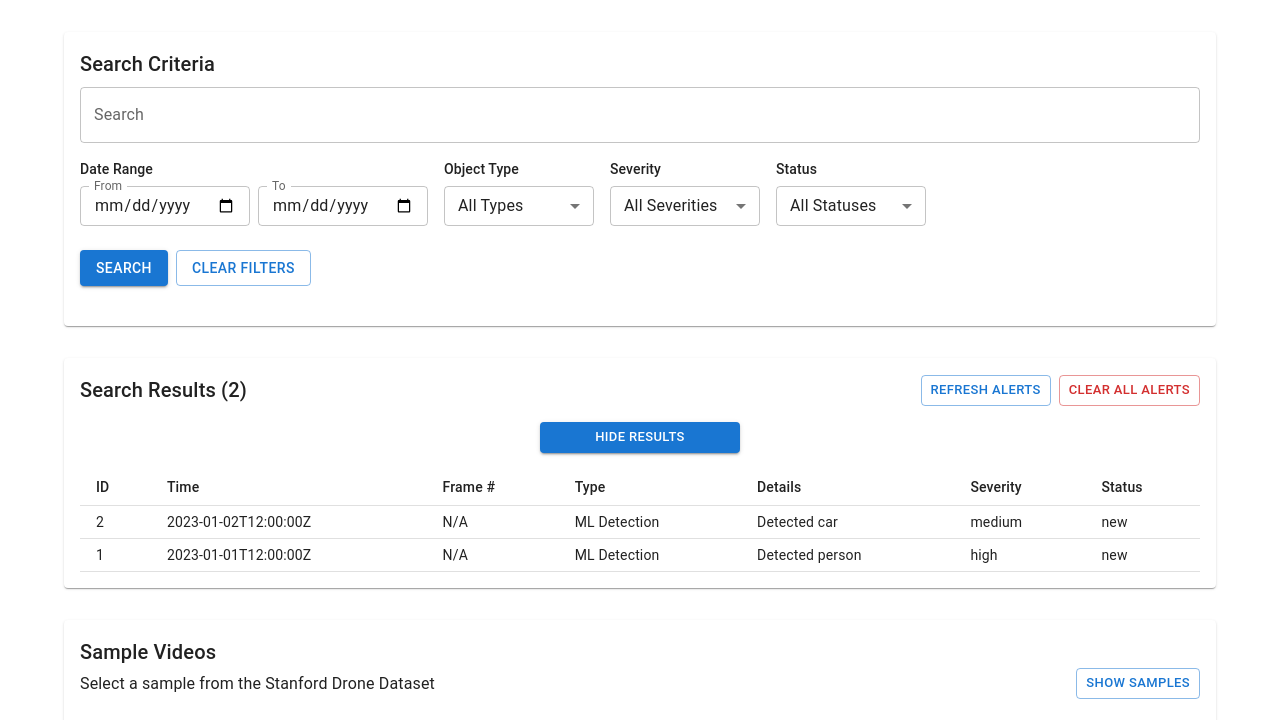
MainPage › clears all alerts
This screenshot has width=1280, height=720.
# Click clear all button - wrap in act since it triggers fetch and state updates
Click the button "Clear All Alerts" at (1129, 390), box x1=1059 y1=375 x2=1200 y2=406
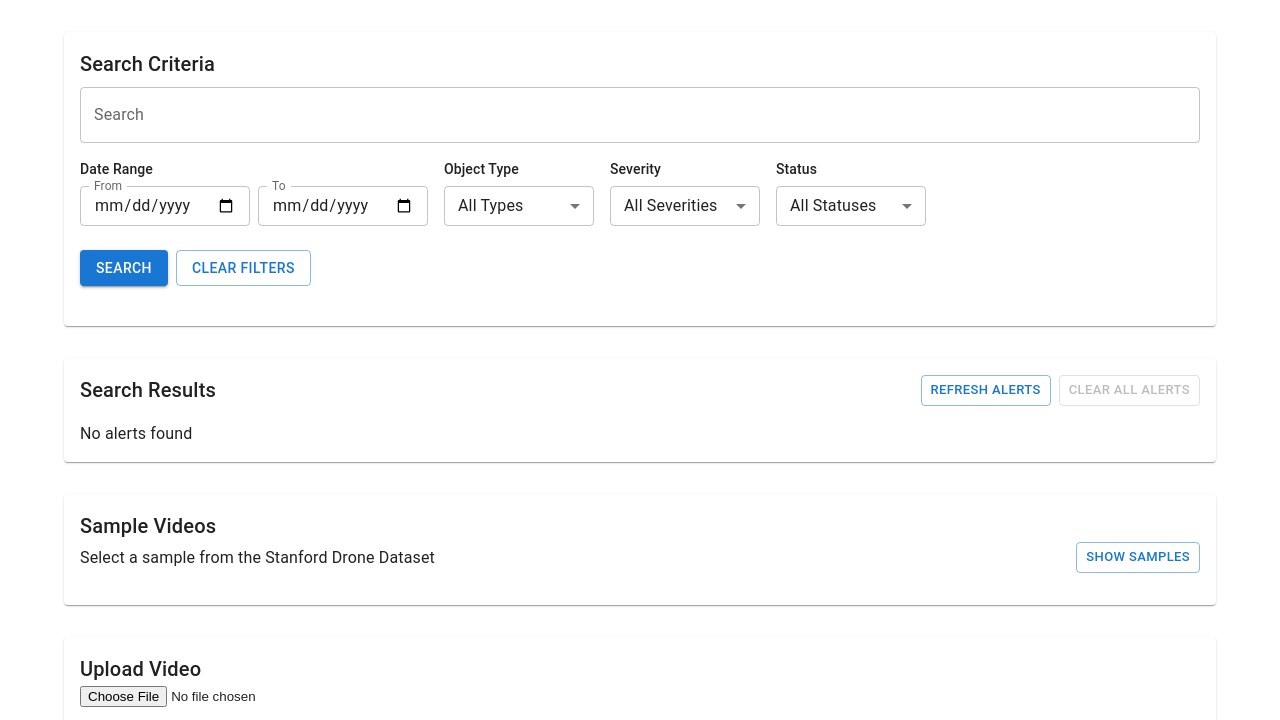
Expected: the text "No alerts found" is shown, x1=80 y1=424 x2=192 y2=443
